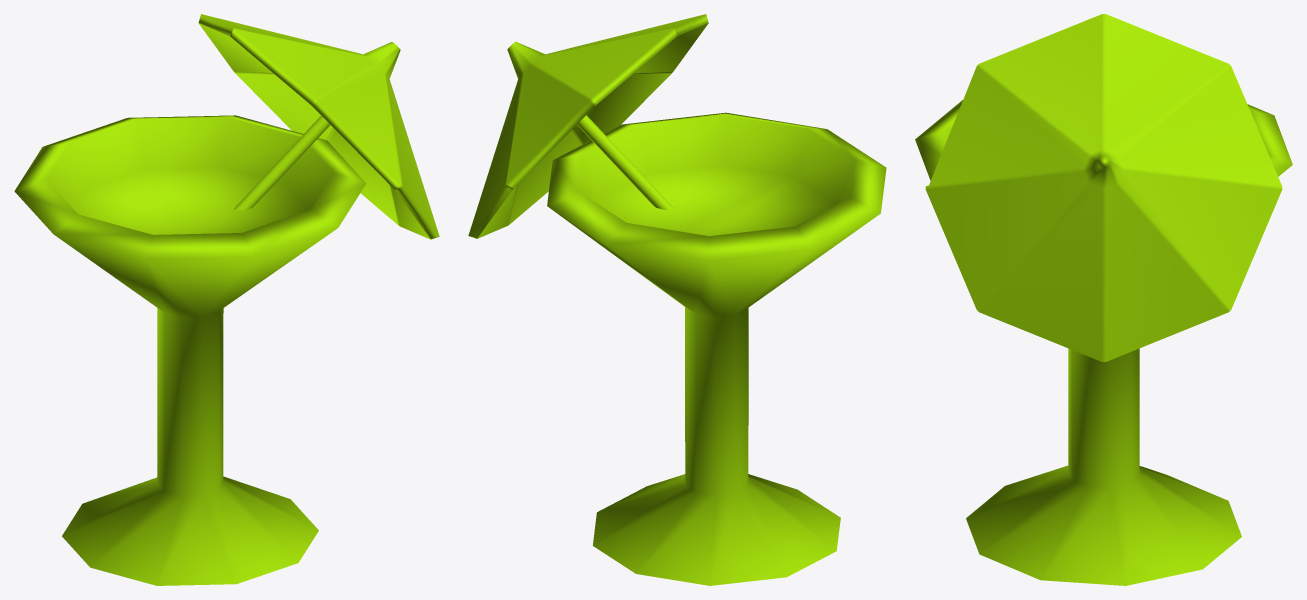
The model's file is LOD1_cocktail.fbx.
The picture shows the model from 3 angles, left to right: view 1: azimuth 30°, elevation 25°; view 2: azimuth 150°, elevation 25°; view 3: azimuth 270°, elevation 25°; orthographic projection. The views are drawn at different scales.
Visible parts, largest first — view 1: cocktail_LOD1; view 2: cocktail_LOD1; view 3: cocktail_LOD1.
Boxes of the visible parts, box(x1,y1,x2,y2) form: cocktail_LOD1: box(14, 14, 439, 585); cocktail_LOD1: box(468, 14, 886, 585); cocktail_LOD1: box(915, 14, 1292, 585).
Size of the model in its own units: 24.39 by 31.38 by 20.03.
